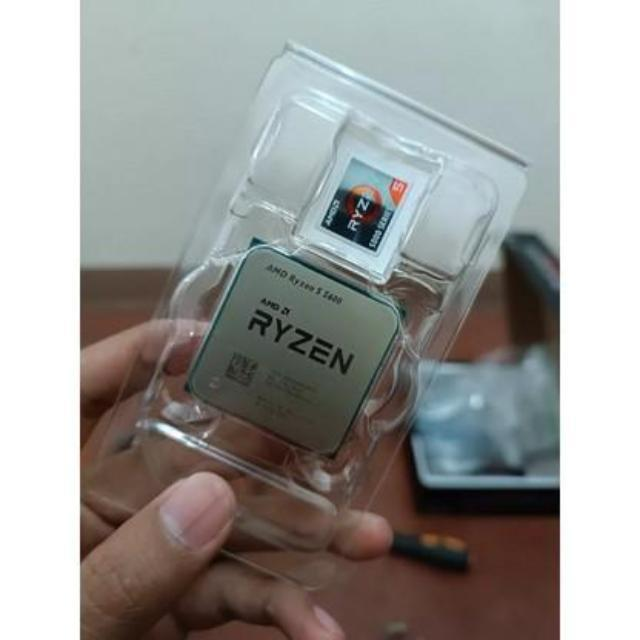CPU: (186, 247, 400, 456)
